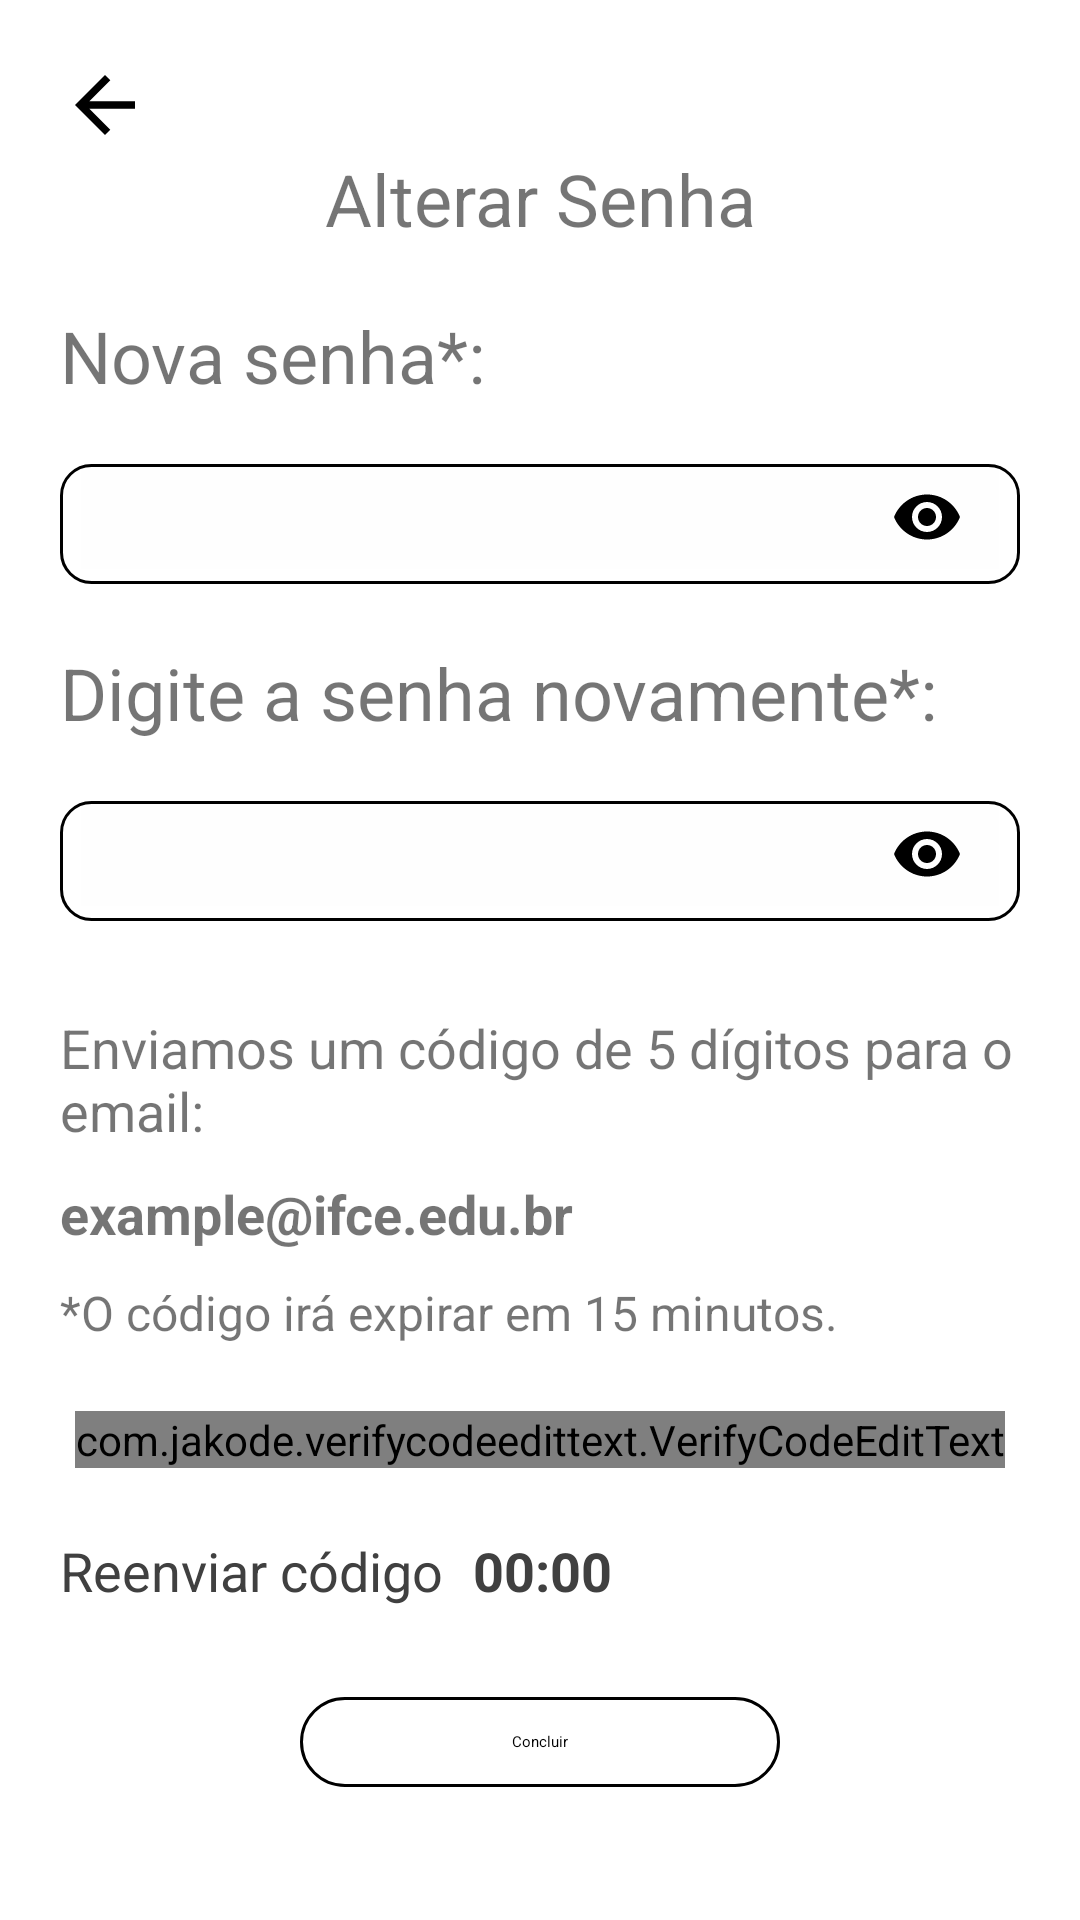

Point at icon controls on the screen. Image size 1080px x 1920px, points as (x=x, y=y).
back: (x=105, y=105)
